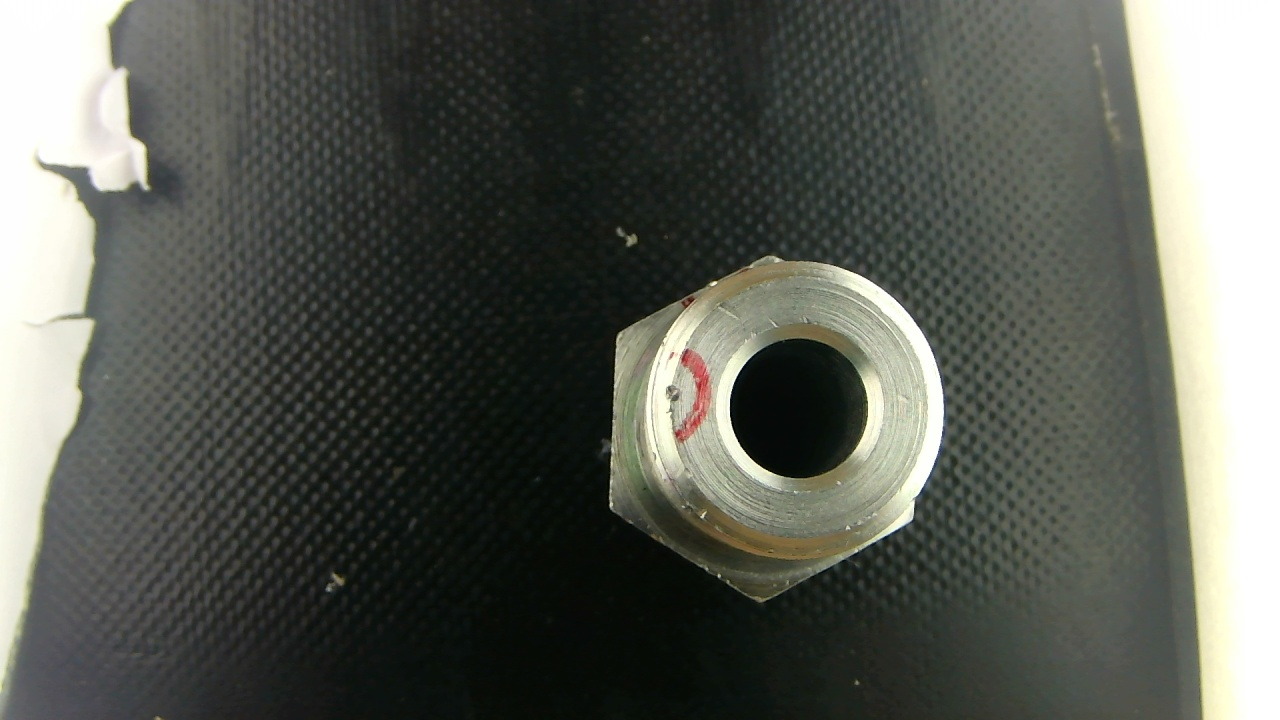SurfaceDent_Adaptor: (682, 502, 710, 525)
